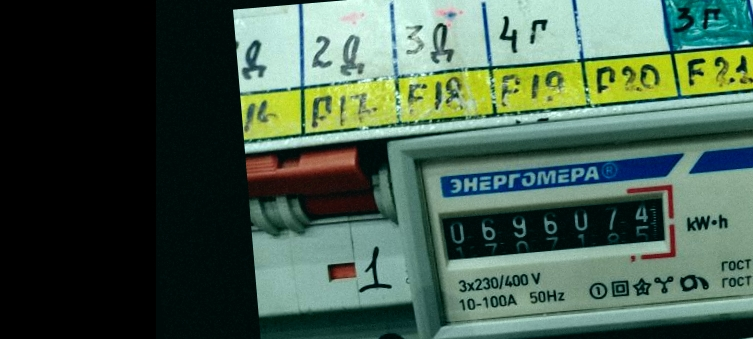0: (446, 218, 467, 245), (572, 205, 590, 232)
4: (633, 199, 651, 224)
5: (635, 223, 651, 242)
6: (478, 214, 500, 242), (540, 210, 559, 235)
7: (601, 203, 621, 231)
9: (508, 212, 529, 239)
screen: (426, 179, 684, 280)
